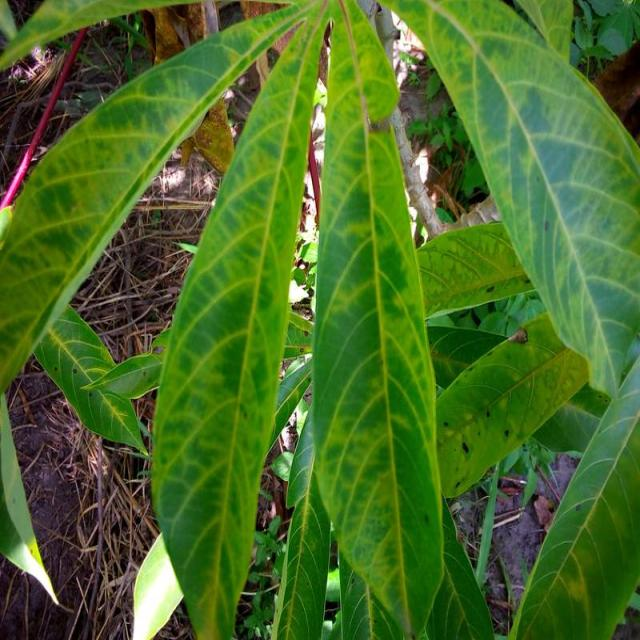cassava leaf: (2, 0, 640, 638), (148, 1, 330, 638), (379, 0, 640, 400), (311, 0, 447, 638)
